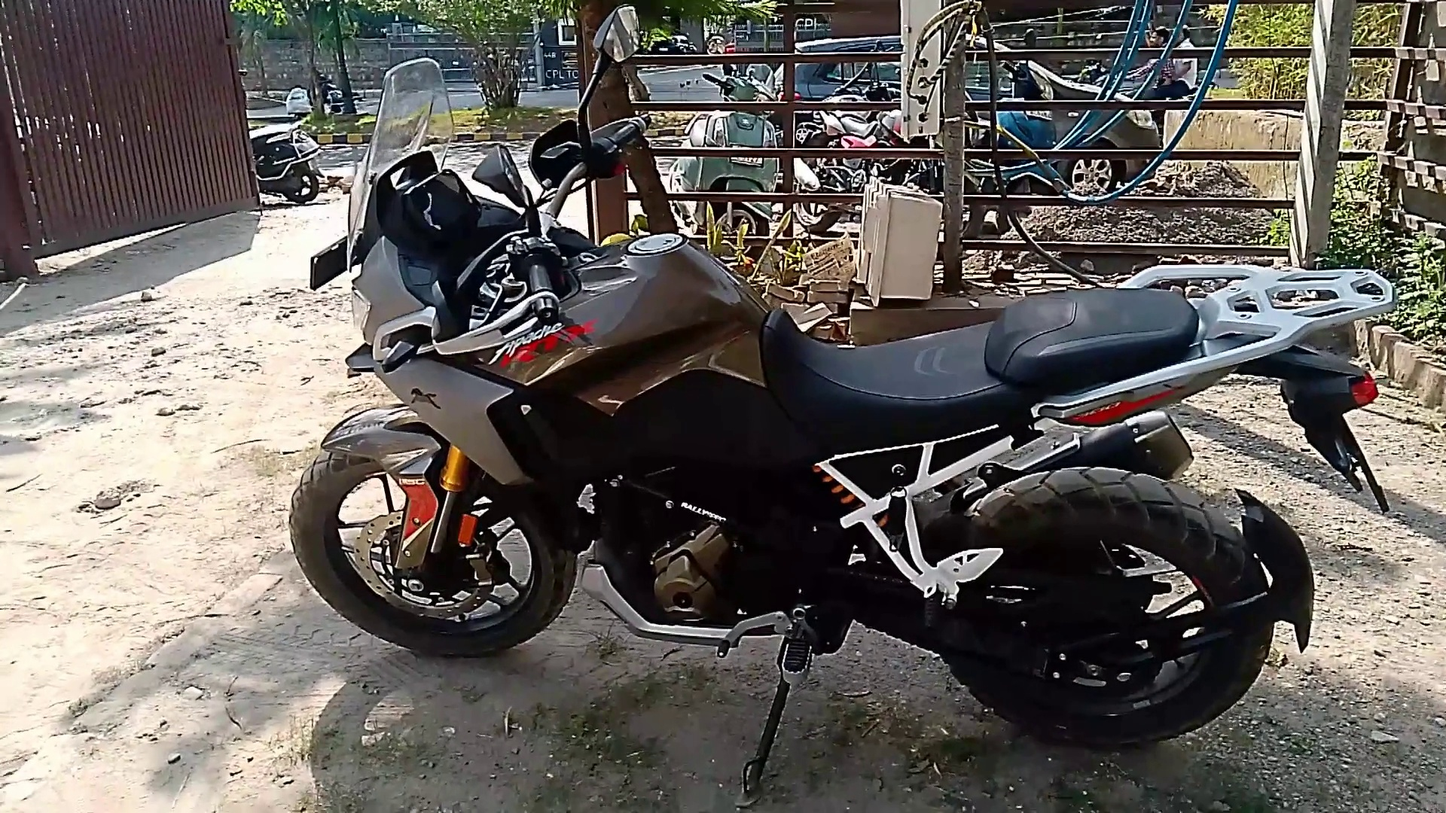engine: (636, 474, 763, 646)
